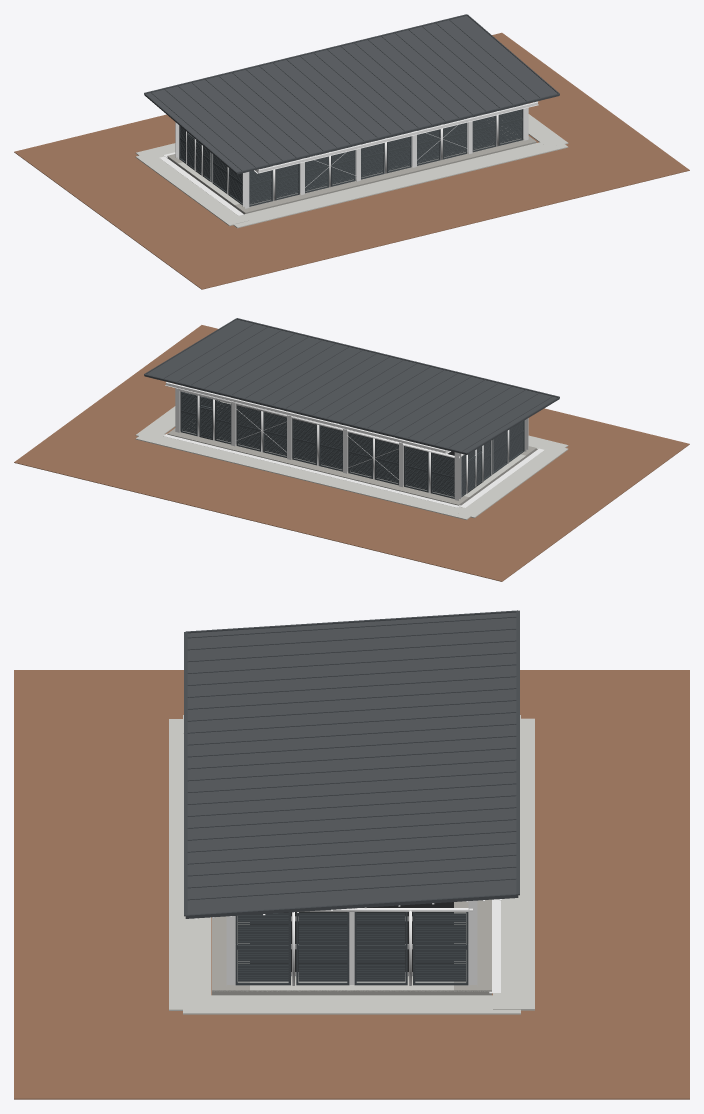
Rendered from port-haven-outdoor-gym.glb.
3 views of the same model, one above another, from view 1: azimuth 30°, elevation 25°; view 2: azimuth 150°, elevation 25°; view 3: azimuth 270°, elevation 25° (orthographic). The views are drawn at different scales.
Visible parts, largest first — view 1: ground_plane_port_haven_context, Kingspan_KS1000RW_ironstone_top_skin_visible, existing_footpath_south_RL_8_680, 1350_wide_x_800_deep_strip_footing_grid_2_cast_concrete, existing_footpath_west_RL_8_700, B4_200UB29.8_eaves_roof_edge, eaves_SC20024_cleader_flashing_support, crown_C20024_cleader_flashing_support, Kingspan_KS1000RW_100mm_roof_panel_single_slope, existing_footpath_east_RL_8_680, blue_metal_landscape_strip_grid_A; view 2: ground_plane_port_haven_context, Kingspan_KS1000RW_ironstone_top_skin_visible, existing_footpath_north_RL_8_700, 1350_wide_x_800_deep_strip_footing_grid_1_cast_concrete, existing_footpath_west_RL_8_700, B4_200UB29.8_crown_roof_edge, blue_metal_landscape_strip_grid_1, crown_C20024_cleader_flashing_support, B3_150x100x6_RHS_wall_head_grid_1, eaves_SC20024_cleader_flashing_support, Kingspan_KS1000RW_100mm_roof_panel_single_slope, existing_footpath_east_RL_8_680 (+1 smaller); view 3: ground_plane_port_haven_context, Kingspan_KS1000RW_ironstone_top_skin_visible, existing_footpath_north_RL_8_700, existing_footpath_south_RL_8_680, existing_footpath_east_RL_8_680, black_rubber_mat_floor_finish_on_existing_slab, 1350_wide_x_800_deep_strip_footing_grid_1_cast_concrete, 60mm_raised_perimeter_concrete_upstand_RL_8_760_grid_F, 900_wide_x_450_deep_strip_footing_grid_F_cast_concrete, 1350_wide_x_800_deep_strip_footing_grid_2_cast_concrete, crown_C20024_cleader_flashing_support, eaves_SC20024_cleader_flashing_support (+5 smaller).
Part boxes in pixels (x1,y1,x2,y2): ground_plane_port_haven_context: (14,32,689,289); Kingspan_KS1000RW_ironstone_top_skin_visible: (146,15,557,171); existing_footpath_south_RL_8_680: (233,142,568,228); 1350_wide_x_800_deep_strip_footing_grid_2_cast_concrete: (234,136,536,214); existing_footpath_west_RL_8_700: (135,151,249,225); B4_200UB29.8_eaves_roof_edge: (258,101,537,173); eaves_SC20024_cleader_flashing_support: (237,93,559,173); crown_C20024_cleader_flashing_support: (144,14,467,93); Kingspan_KS1000RW_100mm_roof_panel_single_slope: (144,95,559,174); existing_footpath_east_RL_8_680: (528,114,568,147); blue_metal_landscape_strip_grid_A: (159,156,244,215); ground_plane_port_haven_context: (14,325,689,581); Kingspan_KS1000RW_ironstone_top_skin_visible: (146,319,557,452); existing_footpath_north_RL_8_700: (135,430,470,519); 1350_wide_x_800_deep_strip_footing_grid_1_cast_concrete: (167,428,469,505); existing_footpath_west_RL_8_700: (454,444,568,518); B4_200UB29.8_crown_roof_edge: (166,382,445,453); blue_metal_landscape_strip_grid_1: (163,434,460,507); crown_C20024_cleader_flashing_support: (144,374,467,453); B3_150x100x6_RHS_wall_head_grid_1: (179,389,454,457); eaves_SC20024_cleader_flashing_support: (237,318,559,397); Kingspan_KS1000RW_100mm_roof_panel_single_slope: (144,375,559,454); existing_footpath_east_RL_8_680: (135,406,175,436); ground_plane_port_haven_context: (14,670,689,1099); Kingspan_KS1000RW_ironstone_top_skin_visible: (187,612,516,914); existing_footpath_north_RL_8_700: (493,718,534,1010); existing_footpath_south_RL_8_680: (169,719,211,1010); existing_footpath_east_RL_8_680: (183,995,520,1014); black_rubber_mat_floor_finish_on_existing_slab: (250,902,453,975); 1350_wide_x_800_deep_strip_footing_grid_1_cast_concrete: (454,899,491,990); 60mm_raised_perimeter_concrete_upstand_RL_8_760_grid_F: (212,979,491,991); 900_wide_x_450_deep_strip_footing_grid_F_cast_concrete: (212,990,491,995); 1350_wide_x_800_deep_strip_footing_grid_2_cast_concrete: (212,916,249,990); crown_C20024_cleader_flashing_support: (516,610,519,895); eaves_SC20024_cleader_flashing_support: (184,632,187,916).
Bounding box in the file's own units: 36 × 5.2 × 24.
